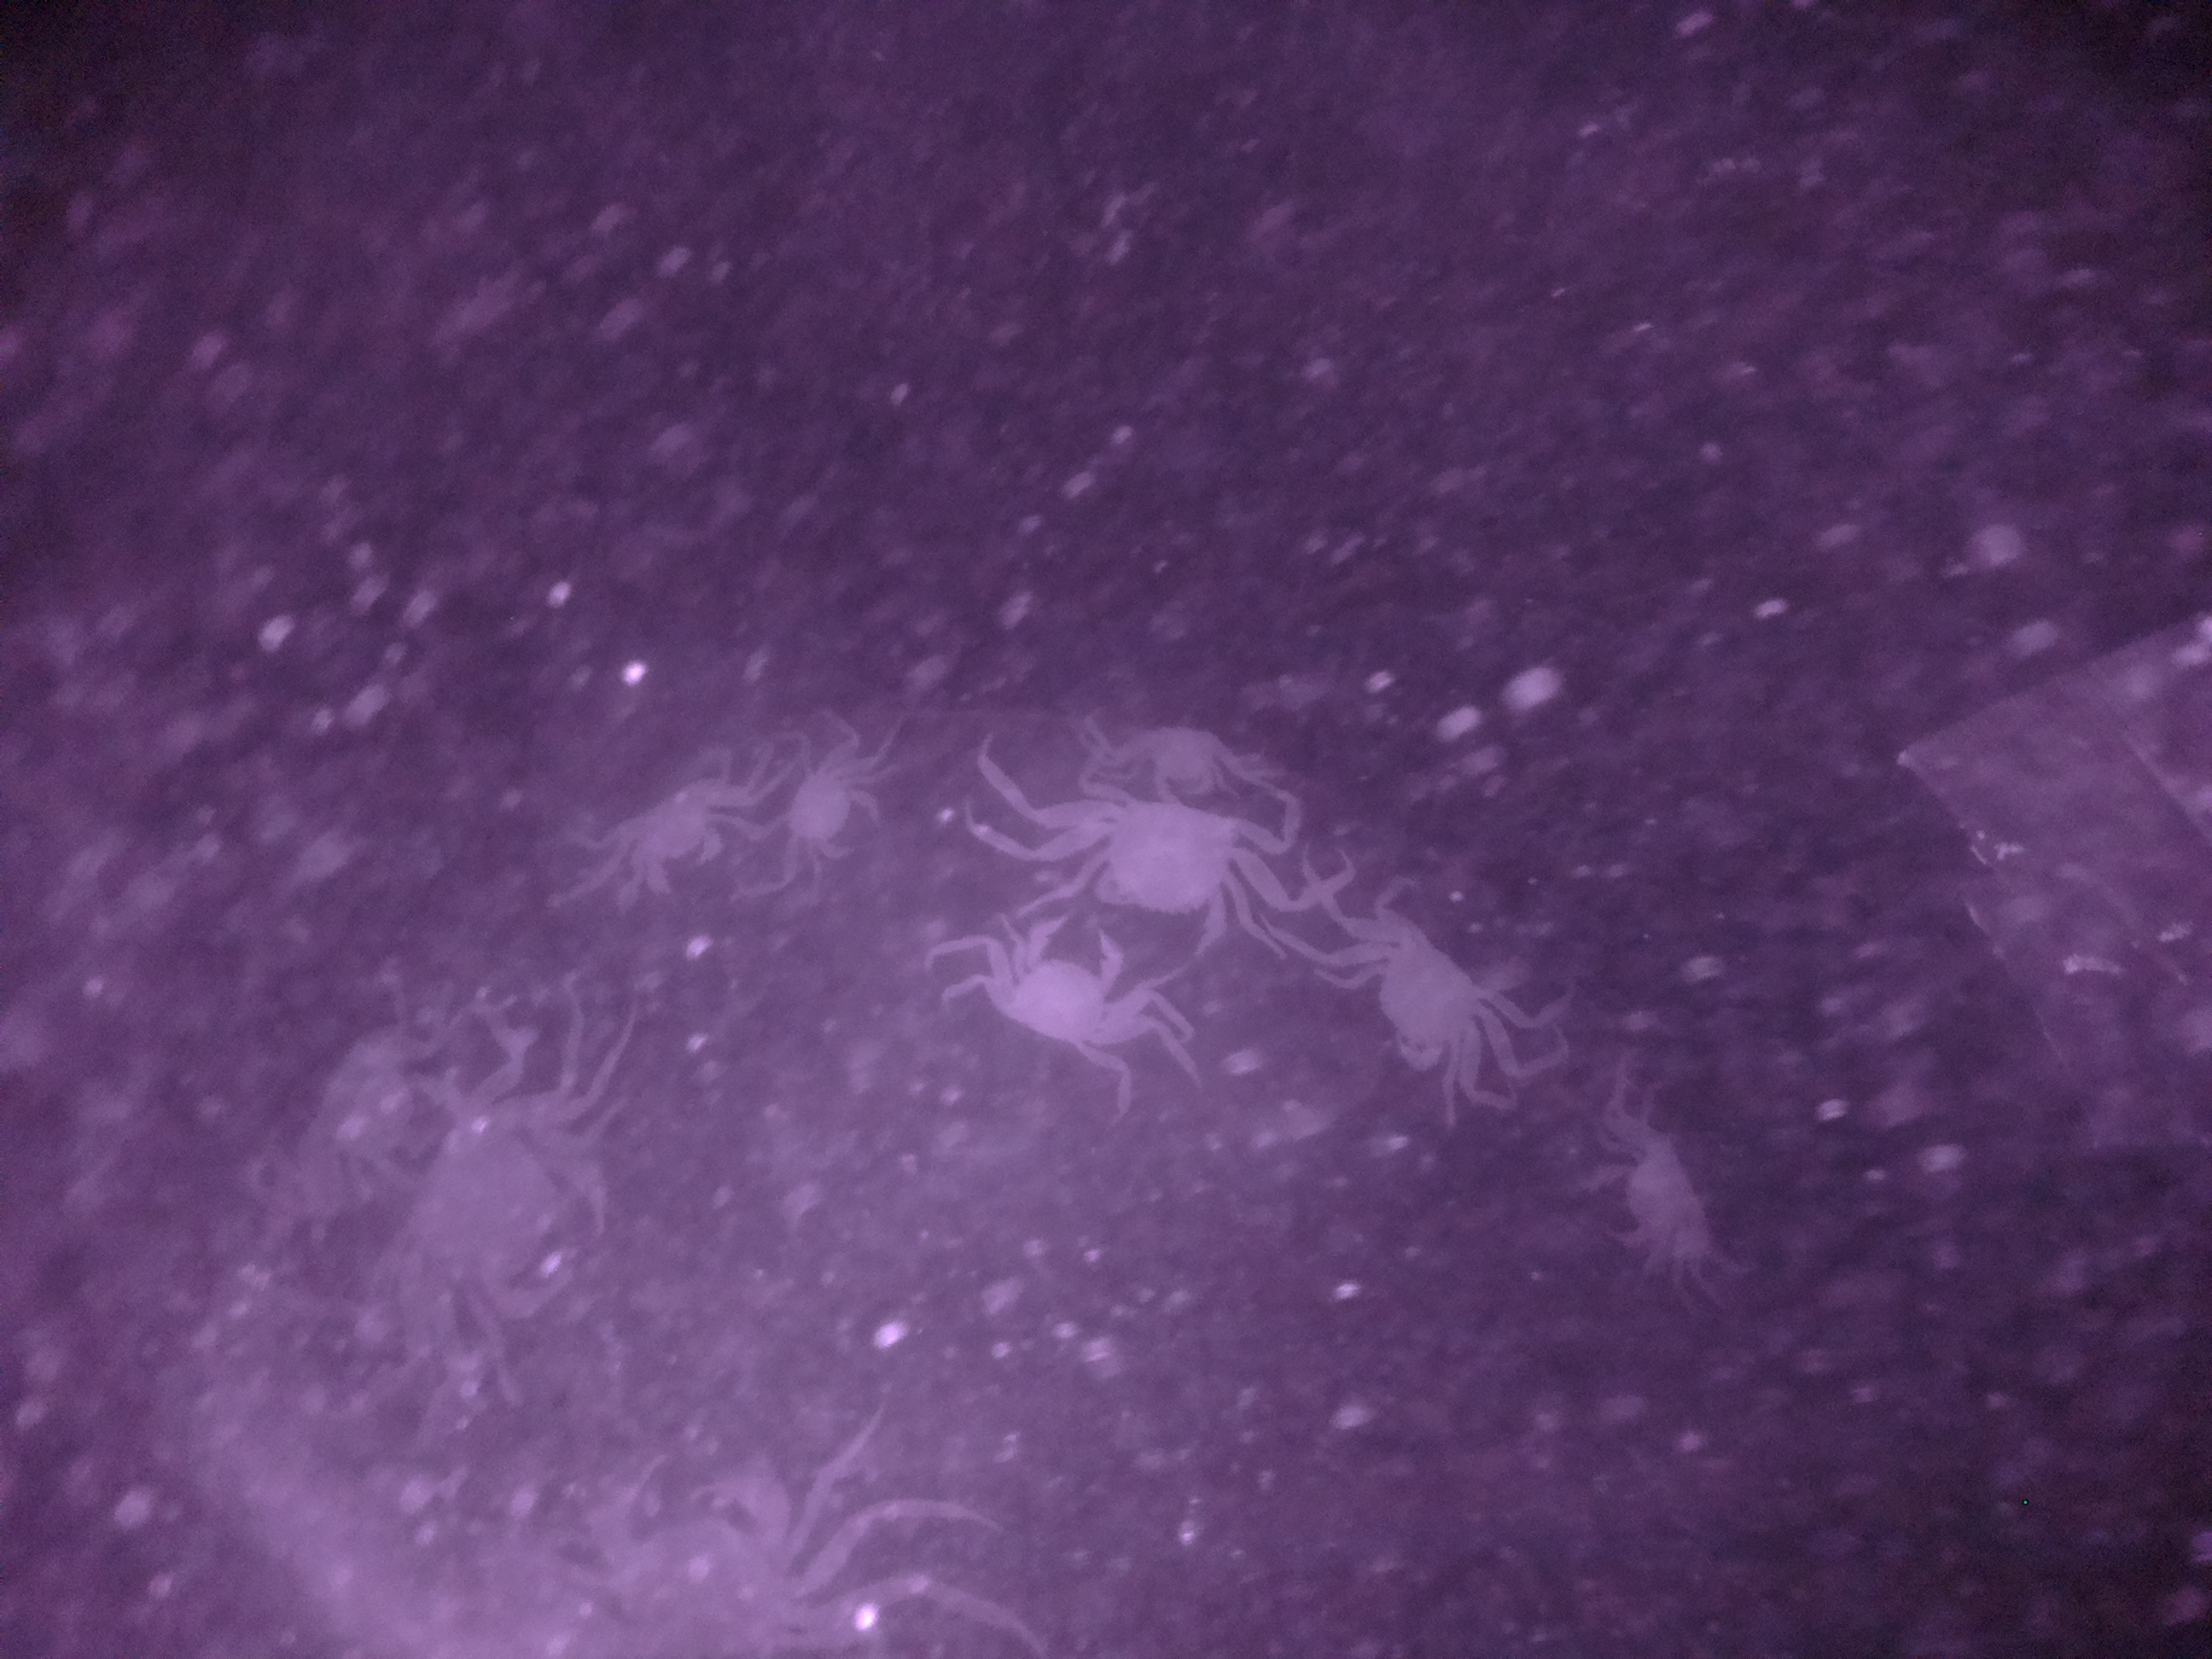Crab: (1045, 788, 1258, 953), (1341, 899, 1507, 1089), (939, 915, 1130, 1068), (766, 728, 895, 884)
